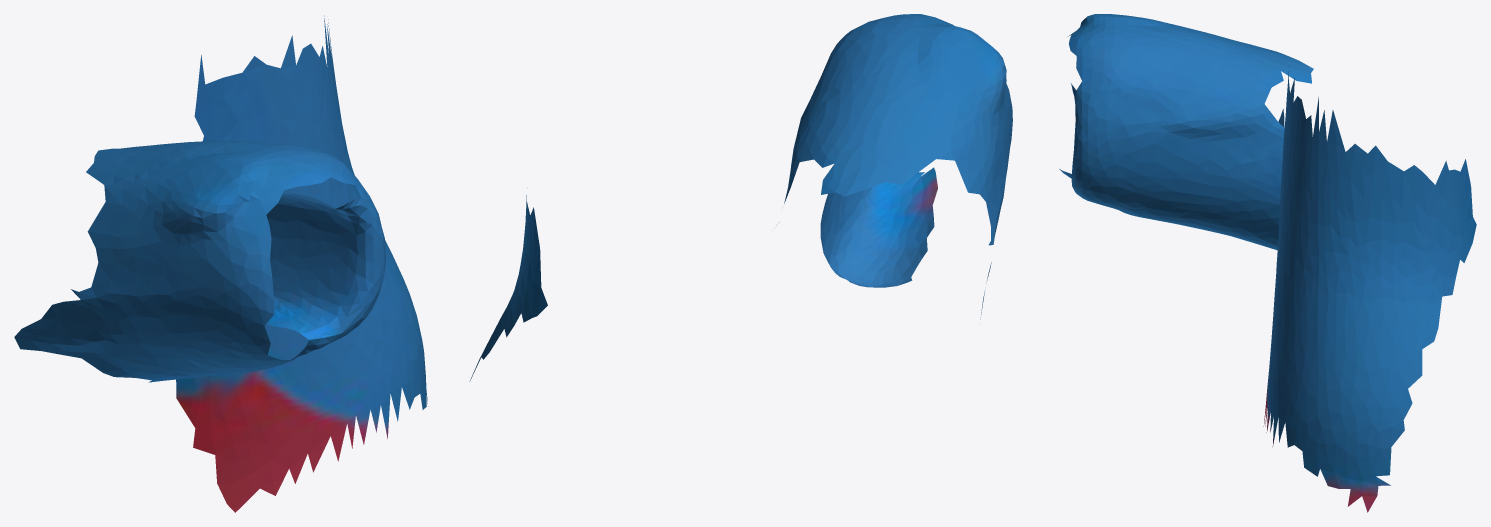
3 renders of one model, left to right at view 1: azimuth 30°, elevation 25°; view 2: azimuth 150°, elevation 25°; view 3: azimuth 270°, elevation 25°, orthographic. The views are drawn at different scales.
Visible parts, largest first — view 1: tripo_mesh_045d8eb0-72ec-4624-9759-a425f321d17a; view 2: tripo_mesh_045d8eb0-72ec-4624-9759-a425f321d17a; view 3: tripo_mesh_045d8eb0-72ec-4624-9759-a425f321d17a.
Part boxes in pixels (<box>): tripo_mesh_045d8eb0-72ec-4624-9759-a425f321d17a: <box>14,15,428,512</box>; tripo_mesh_045d8eb0-72ec-4624-9759-a425f321d17a: <box>469,14,1012,381</box>; tripo_mesh_045d8eb0-72ec-4624-9759-a425f321d17a: <box>1059,14,1476,512</box>.
Bounding box in the file's own units: 0.154 × 0.1426 × 0.1517.
1 material, 1 textured.
